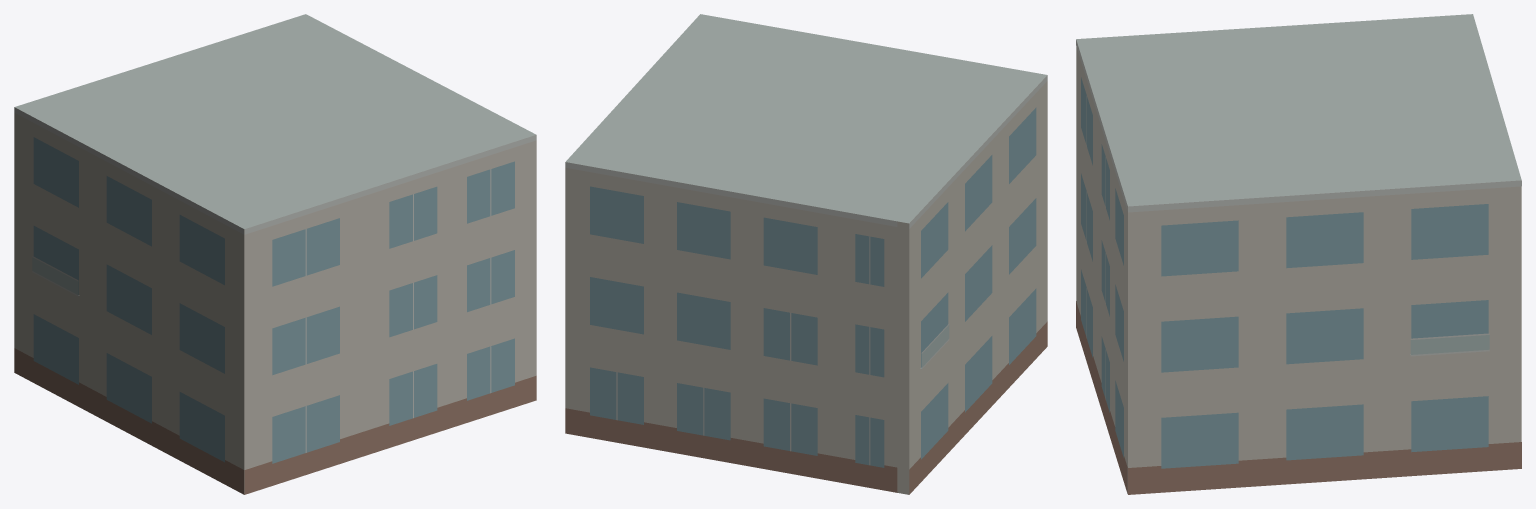
File: survey-upis-32570863.glb
The picture shows the model from 3 angles, left to right: view 1: azimuth 30°, elevation 25°; view 2: azimuth 150°, elevation 25°; view 3: azimuth 270°, elevation 25°; orthographic projection. The views are drawn at different scales.
Visible parts, largest first — view 1: survey-upis-32570863.tmp; view 2: survey-upis-32570863.tmp; view 3: survey-upis-32570863.tmp.
Part boxes in pixels (box(x1,y1,x2,y2)): survey-upis-32570863.tmp: box(14, 14, 536, 494); survey-upis-32570863.tmp: box(565, 14, 1047, 494); survey-upis-32570863.tmp: box(1076, 14, 1521, 494).
Bounding box in the file's own units: 16.76 × 11.7 × 16.4.
